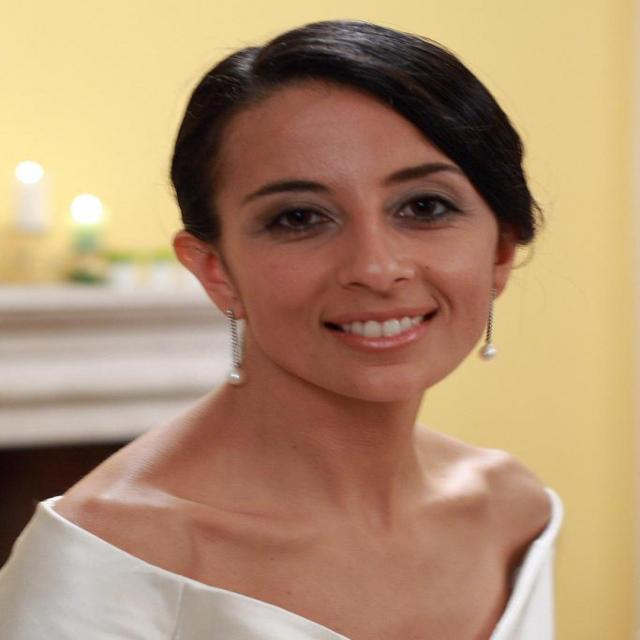Eyebags: (391, 210, 464, 238), (276, 222, 341, 252)
